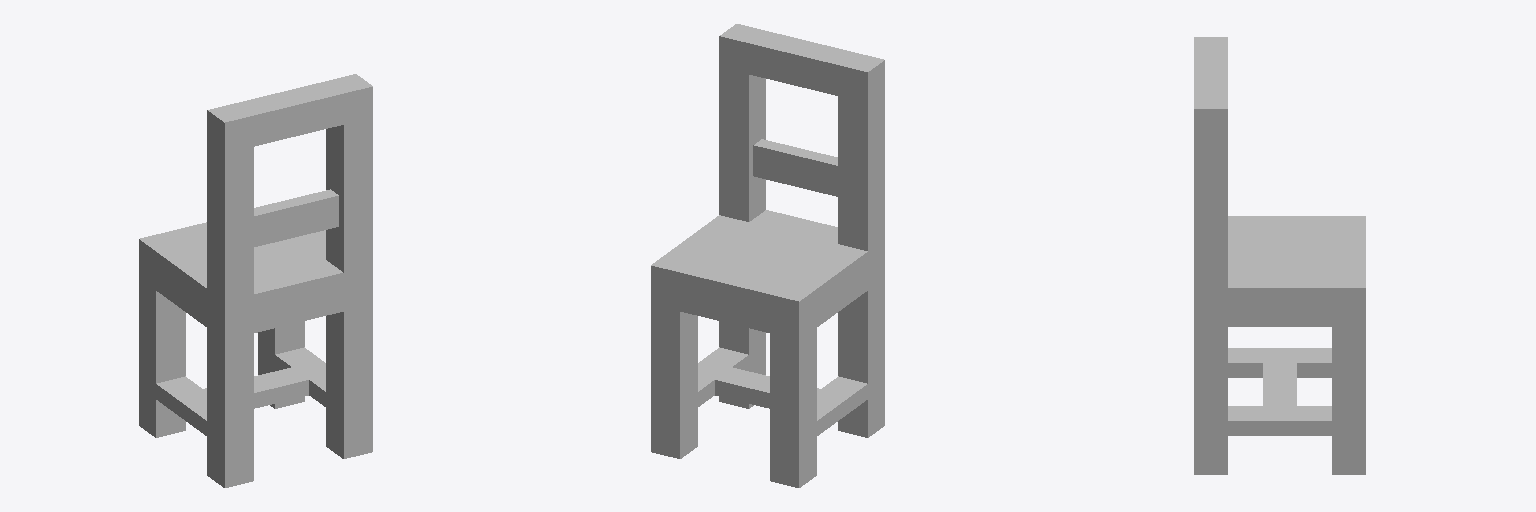
The model's file is chair.obj.
3 views of the same model, side by side, from view 1: azimuth 30°, elevation 25°; view 2: azimuth 150°, elevation 25°; view 3: azimuth 270°, elevation 25° (orthographic).
Visible parts, largest first — view 1: chair; view 2: chair; view 3: chair.
Part boxes in pixels (bbox=[...]): chair: bbox=[139, 74, 372, 487]; chair: bbox=[651, 24, 884, 487]; chair: bbox=[1194, 37, 1365, 474].
Size of the model in its own units: 2 by 4.7 by 2.